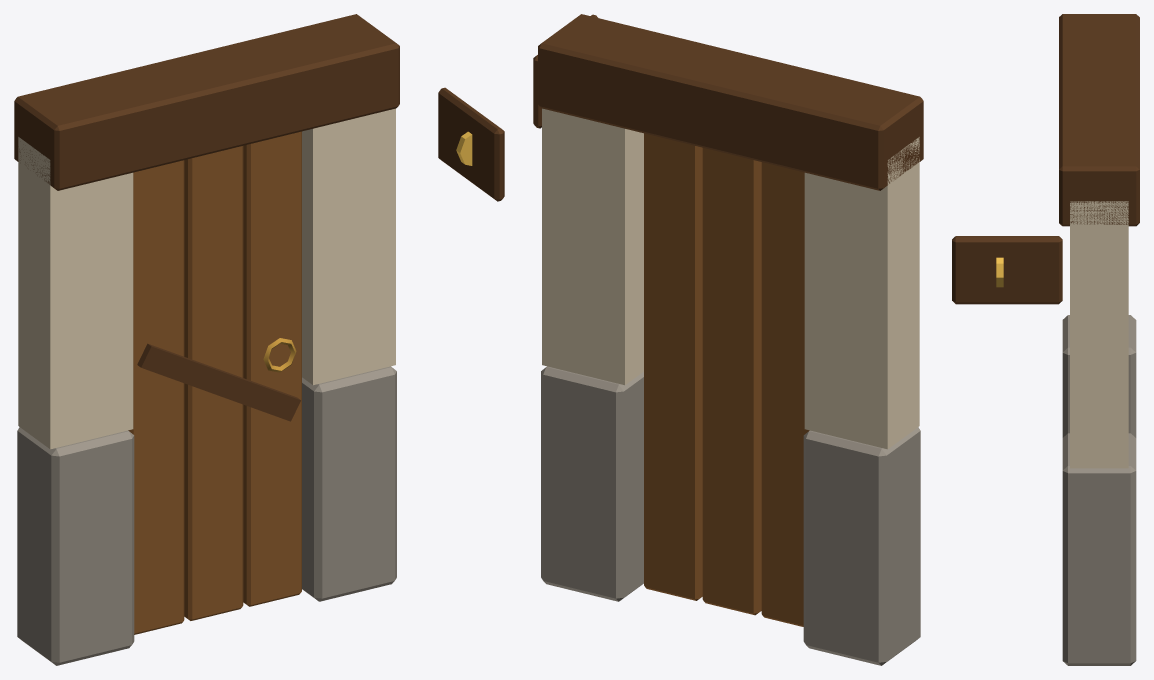
The model's file is PR_Building_Kapi.fbx.
3 renders of one model, left to right at view 1: azimuth 30°, elevation 25°; view 2: azimuth 150°, elevation 25°; view 3: azimuth 270°, elevation 25°, orthographic. The views are drawn at different scales.
Parts seen in each view (by area): view 1: PR_Building_Kapi; view 2: PR_Building_Kapi; view 3: PR_Building_Kapi.
Part boxes in pixels (bbox=[...]): PR_Building_Kapi: bbox=[14, 14, 504, 665]; PR_Building_Kapi: bbox=[533, 14, 923, 665]; PR_Building_Kapi: bbox=[952, 14, 1139, 665].
Bounding box in the file's own units: 1.17 × 1.5 × 0.51.
